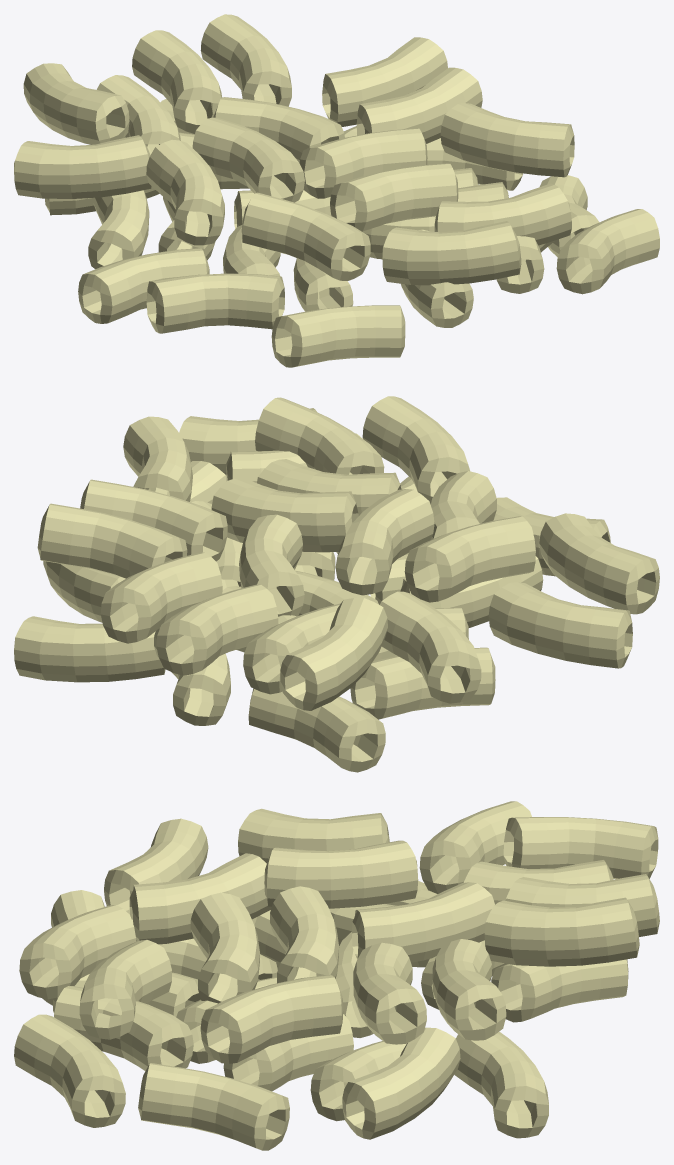
The model's file is raw_noodle.fbx.
3 views of the same model, one above another, from view 1: azimuth 30°, elevation 25°; view 2: azimuth 150°, elevation 25°; view 3: azimuth 270°, elevation 25° (orthographic). The views are drawn at different scales.
Visible parts, largest first — view 1: uncooked noodles; view 2: uncooked noodles; view 3: uncooked noodles.
Boxes of the visible parts, box(x1,y1,x2,y2) form: uncooked noodles: box(14, 14, 659, 367); uncooked noodles: box(14, 396, 659, 772); uncooked noodles: box(14, 801, 659, 1150).
Bounding box in the file's own units: 38.45 × 10.81 × 39.17.
